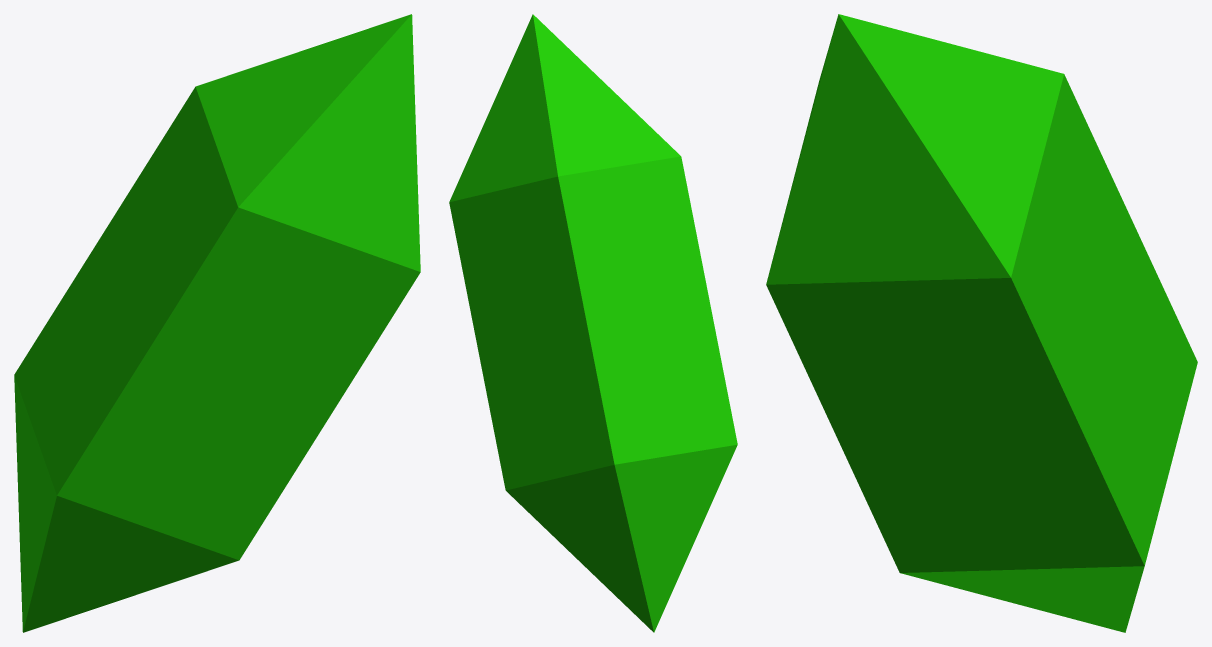
The model's file is right_arm_lower.obj.
3 views of the same model, side by side, from view 1: azimuth 30°, elevation 25°; view 2: azimuth 150°, elevation 25°; view 3: azimuth 270°, elevation 25° (orthographic). The views are drawn at different scales.
Parts seen in each view (by area): view 1: right_arm_lower; view 2: right_arm_lower; view 3: right_arm_lower.
Boxes of the visible parts, x1,y1,x2,y2 form: right_arm_lower: [14, 14, 420, 632]; right_arm_lower: [449, 14, 737, 632]; right_arm_lower: [766, 14, 1197, 632].
Size of the model in its own units: 0.6987 by 1.24 by 0.619.
